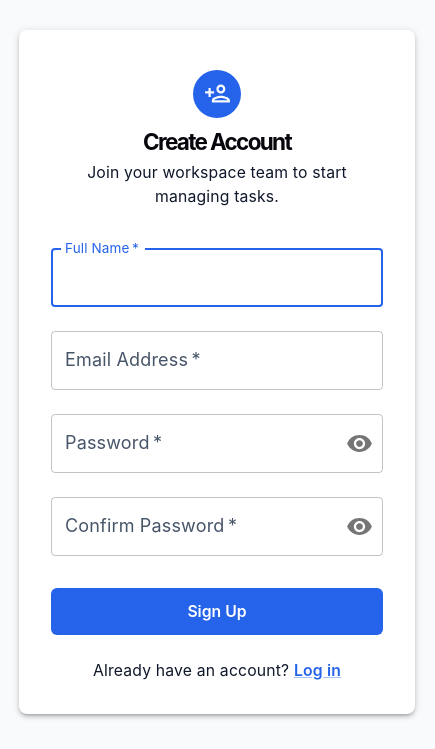
RegisterPage Component › validates password confirmation mismatch
Step 1. Type "Jane Doe" into the field labelled "Full Name *" → (217, 278), box [51, 248, 383, 307]
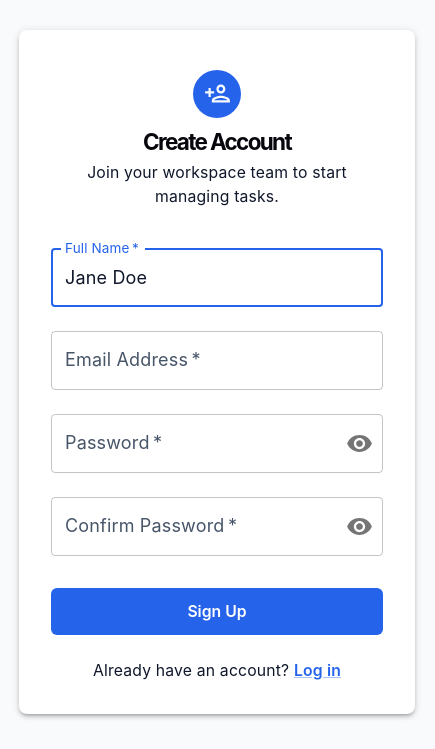
Step 2. Type "jane@example.com" into the field labelled "Email Address *" → (217, 361), box [51, 331, 383, 390]
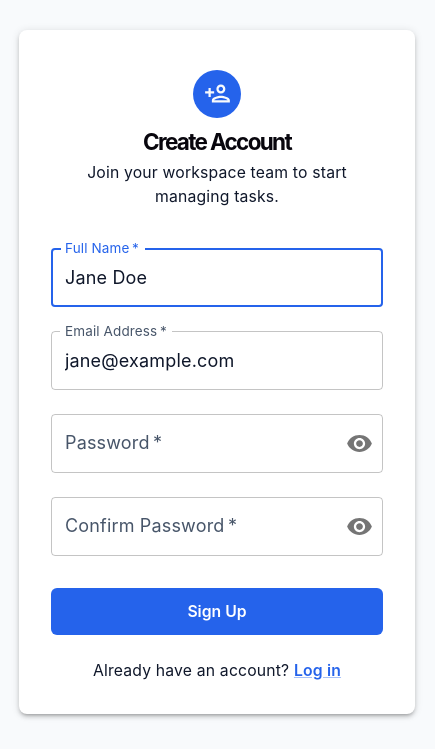
Step 3. Type "Secret123!" into the password field labelled "Password *" → (190, 444), box [51, 414, 330, 473]
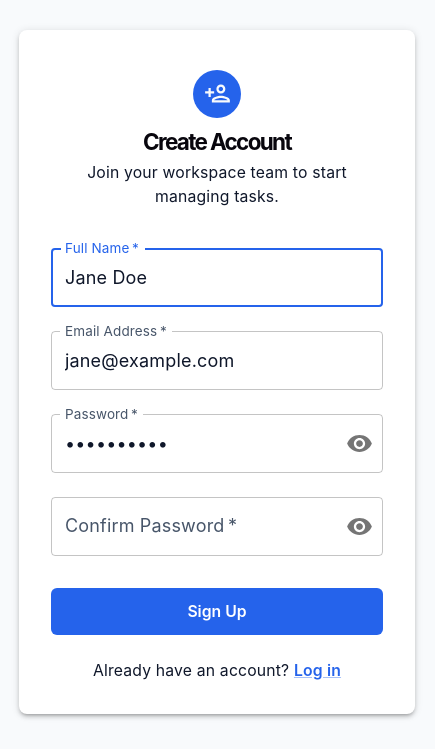
Step 4. Type "Different123!" into the password field labelled "Confirm Password *" → (190, 527), box [51, 497, 330, 556]
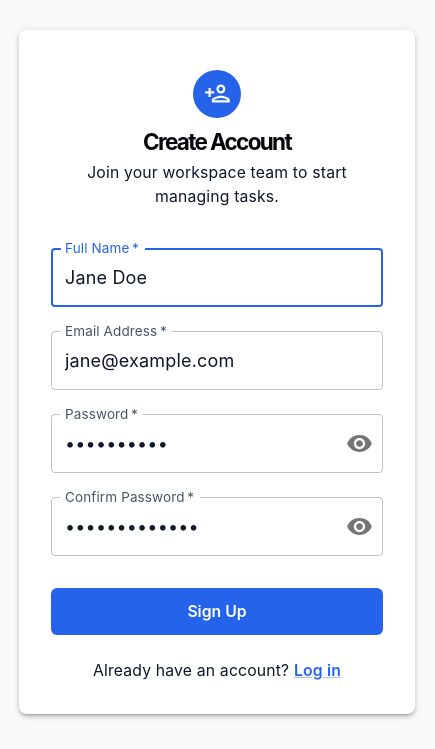
Step 5. Click the button "Sign Up" → (217, 611), box [51, 588, 383, 635]
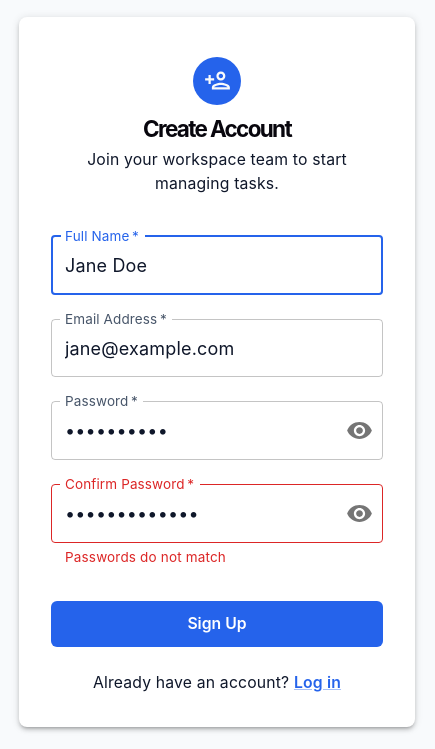
Expected: the text "Passwords do not match" is shown, [65, 549, 226, 565]
